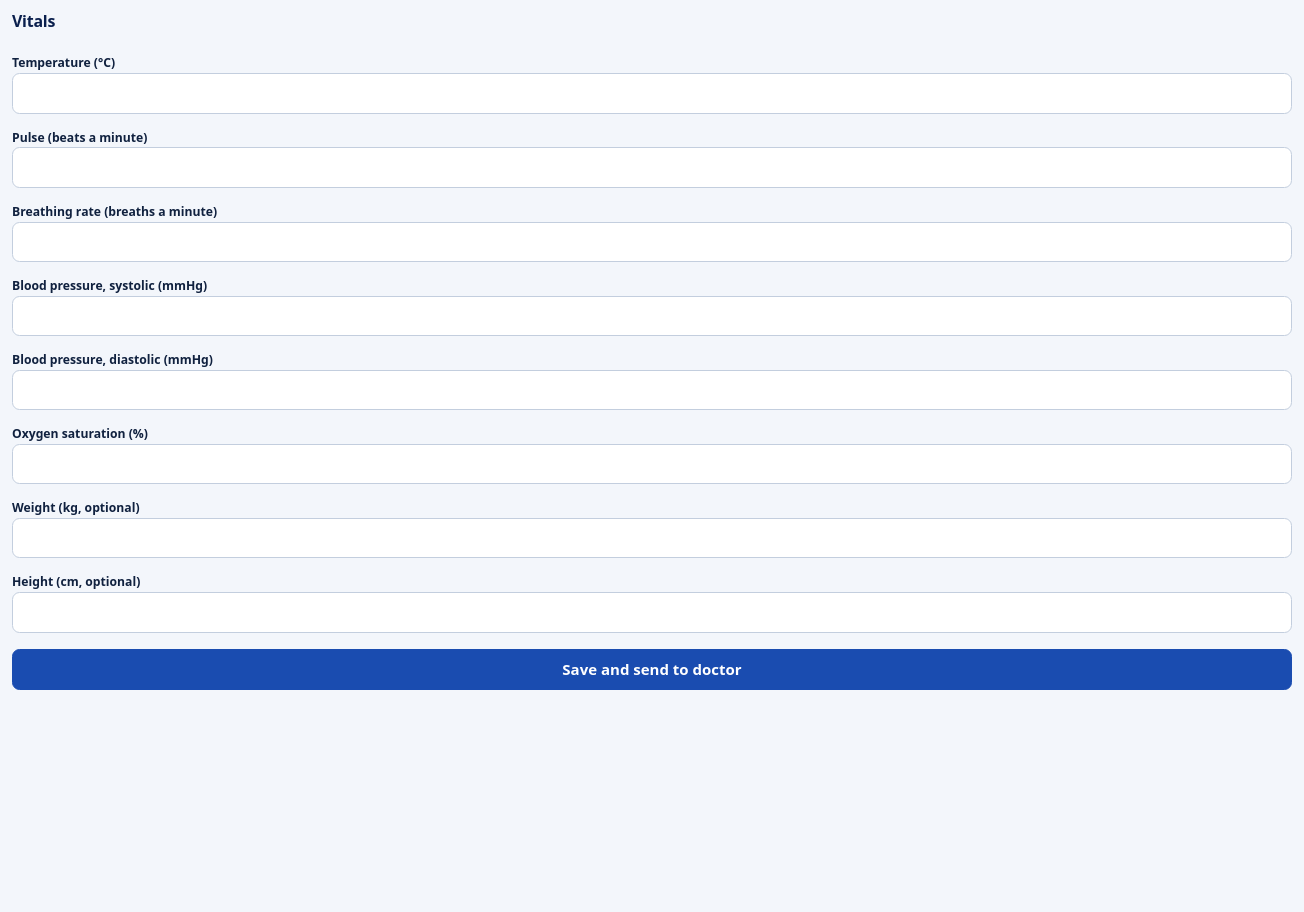
Test case: VitalsForm › asks for every required reading
Step 1. Click the button "Save and send to doctor" → click(652, 670), box left=12, top=649, right=1292, bottom=690
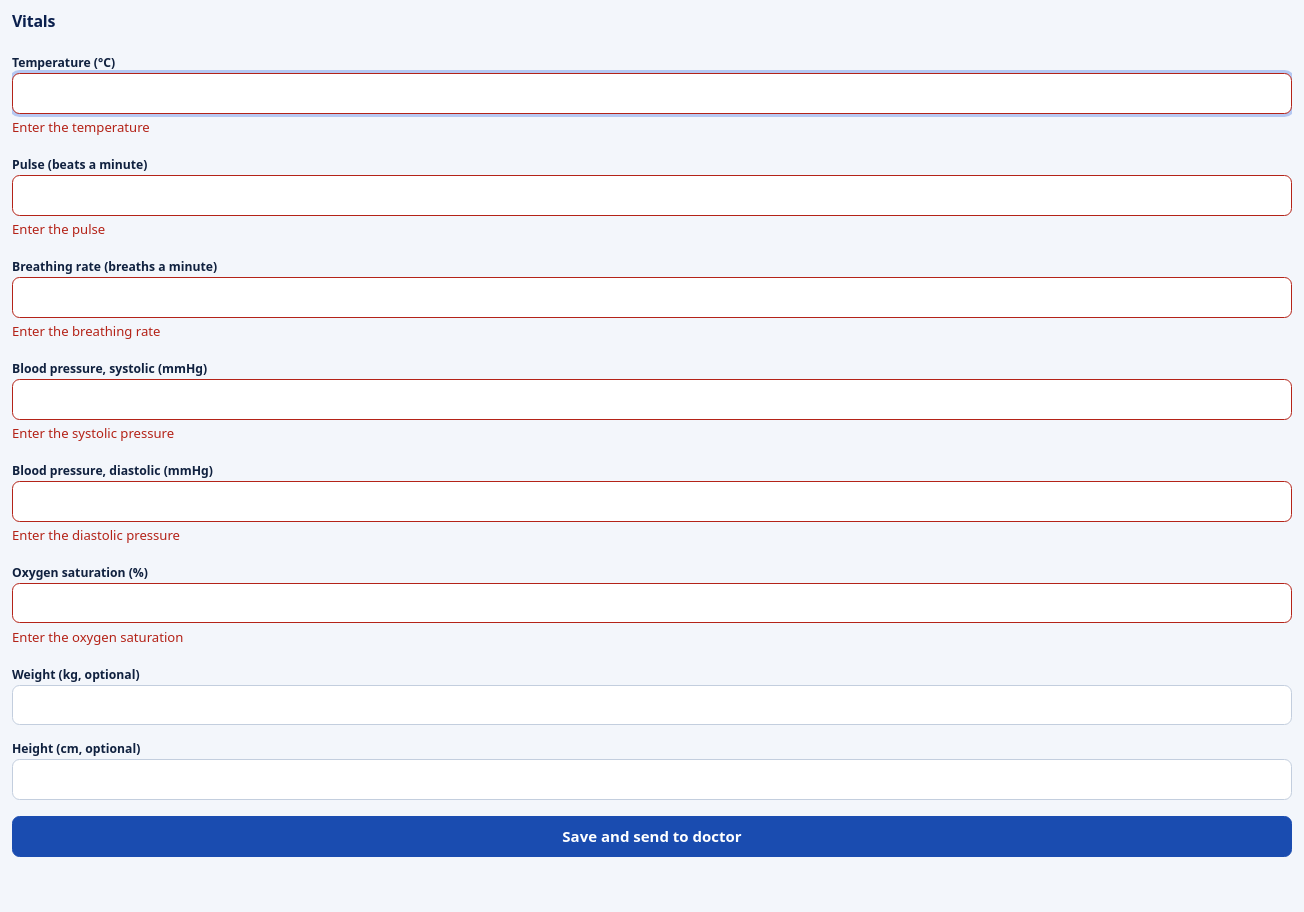
expect the text "Enter the temperature" is shown: met, box left=12, top=118, right=150, bottom=136
expect the text "Enter the oxygen saturation" is shown: met, box left=12, top=628, right=183, bottom=646
